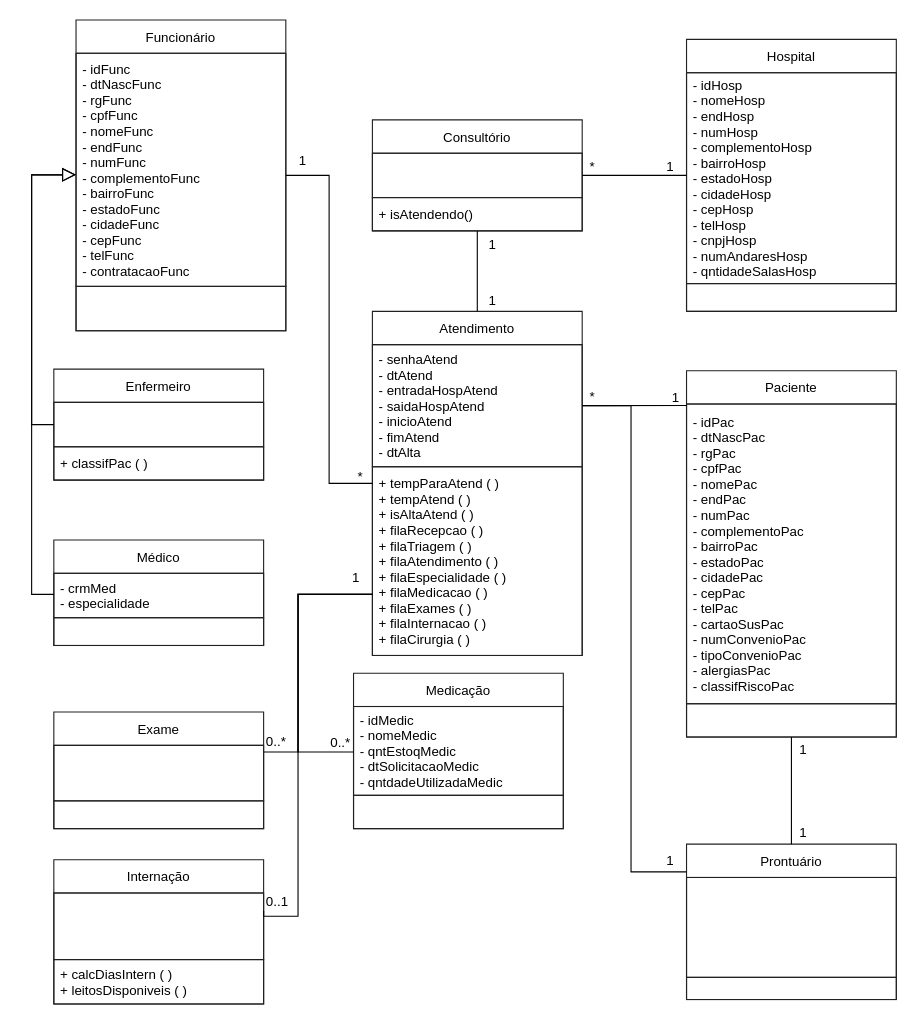
This 916x1023 diagram has some shape labels left out. The shapes that lost their labels are listed below. From the top down, each one's centre as x and y in pixels, then its label:
At (x=476, y=175): "- numConsult - andarConsult".
At (x=180, y=308): "- anosServ( ) - calcIdade( )".
At (x=158, y=424): "- corenEnf - isFormado".
At (x=158, y=631): "+ encaminhamento( )".
At (x=790, y=720): "- calcIdade( )".
At (x=158, y=772): "- nomeExam - dtExam - valorExam".
At (x=158, y=814): "+ calcValorExam ( )".
At (x=457, y=811): "+ medUsadaAtend ( )".
At (x=158, y=926): "- qntdadeLeitosIntern - dtInicioIntern - dtFimIntern - qntidadeInternados".
At (x=790, y=926): "- consultas - Internação - examesFeitos - alergias - medicControlada".
